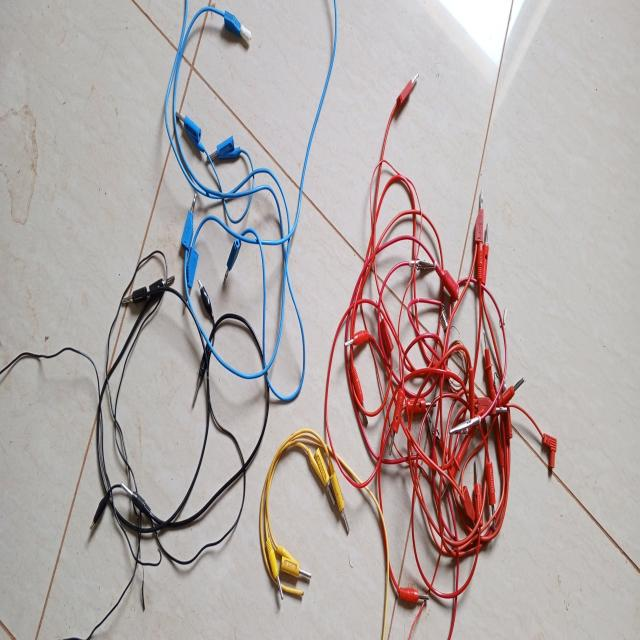BNC Cable: (79, 0, 563, 610)
